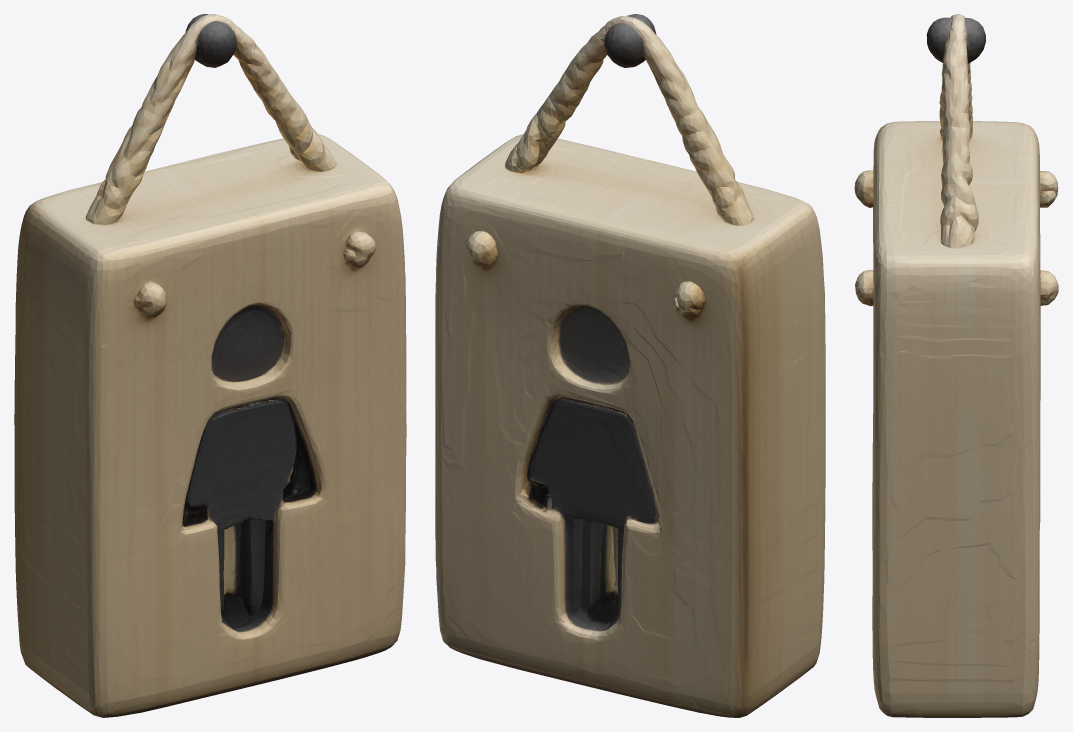
File: JP_사물_s2_hr_room_sign.glb
The picture shows the model from 3 angles, left to right: view 1: azimuth 30°, elevation 25°; view 2: azimuth 150°, elevation 25°; view 3: azimuth 270°, elevation 25°; orthographic projection.
Parts seen in each view (by area): view 1: world; view 2: world; view 3: world.
Part boxes in pixels (x1,y1,x2,y2): world: (14,14,406,717); world: (435,14,825,717); world: (854,14,1058,717).
Size of the model in its own units: 0.5166 by 1 by 0.2914.
1 material, 1 textured.
